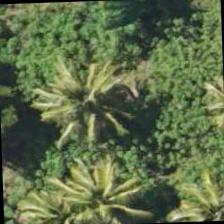Kelapa_Sawit: (38, 56, 131, 150), (54, 152, 147, 223), (9, 173, 102, 223), (170, 173, 223, 223)
